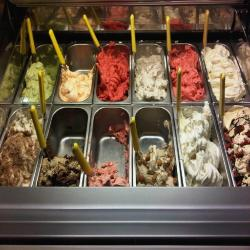icecream: (170, 102, 228, 196), (2, 109, 42, 189), (166, 44, 209, 103), (95, 42, 133, 107)
